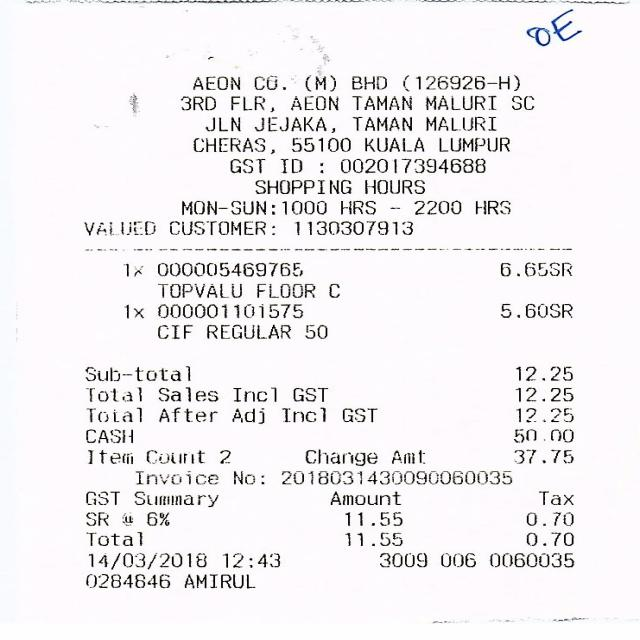text: (280, 470, 509, 484), (156, 303, 302, 318), (154, 262, 302, 276), (339, 158, 483, 172), (180, 200, 324, 214), (87, 552, 205, 569), (402, 75, 519, 91), (84, 365, 188, 381), (294, 220, 412, 233), (168, 221, 273, 235), (253, 179, 350, 194), (133, 491, 217, 507), (191, 137, 273, 153), (254, 116, 334, 132), (86, 573, 170, 588), (207, 324, 290, 339), (303, 448, 375, 465), (157, 283, 241, 297), (488, 553, 572, 567), (183, 573, 255, 588), (426, 115, 496, 130), (498, 262, 571, 276), (83, 221, 155, 235), (133, 470, 217, 482), (425, 95, 496, 109), (438, 137, 509, 151), (500, 303, 571, 317), (328, 490, 399, 504), (158, 386, 218, 401), (156, 407, 216, 422), (514, 386, 572, 401), (514, 407, 572, 422), (85, 406, 139, 422), (512, 428, 573, 442), (513, 449, 572, 463), (351, 96, 409, 110), (291, 137, 349, 151), (364, 137, 422, 151), (221, 553, 279, 567), (85, 386, 139, 401), (255, 283, 312, 297), (144, 449, 201, 463), (515, 366, 571, 380), (344, 510, 400, 524), (363, 180, 423, 193), (85, 532, 140, 546), (353, 116, 411, 129), (230, 95, 274, 112), (414, 198, 460, 214), (344, 532, 400, 545), (290, 95, 338, 110), (87, 449, 132, 464), (282, 406, 324, 422), (378, 552, 426, 566), (232, 386, 276, 401), (192, 75, 239, 89), (84, 429, 130, 443), (525, 512, 571, 525), (525, 532, 571, 545), (156, 324, 191, 339), (291, 386, 326, 401), (230, 407, 262, 423), (203, 116, 239, 130), (438, 552, 474, 566), (181, 95, 214, 110), (339, 200, 374, 214), (474, 200, 509, 214), (538, 490, 573, 504), (352, 75, 386, 89), (229, 158, 263, 172), (340, 408, 376, 421), (305, 75, 334, 91), (391, 449, 424, 463), (253, 75, 284, 89), (86, 491, 119, 504), (234, 470, 264, 482), (510, 96, 532, 110), (146, 510, 168, 524), (124, 303, 144, 318), (85, 512, 108, 525), (280, 158, 301, 172), (305, 324, 326, 337), (125, 262, 142, 276), (327, 283, 338, 297), (218, 449, 229, 463), (121, 513, 130, 524)
